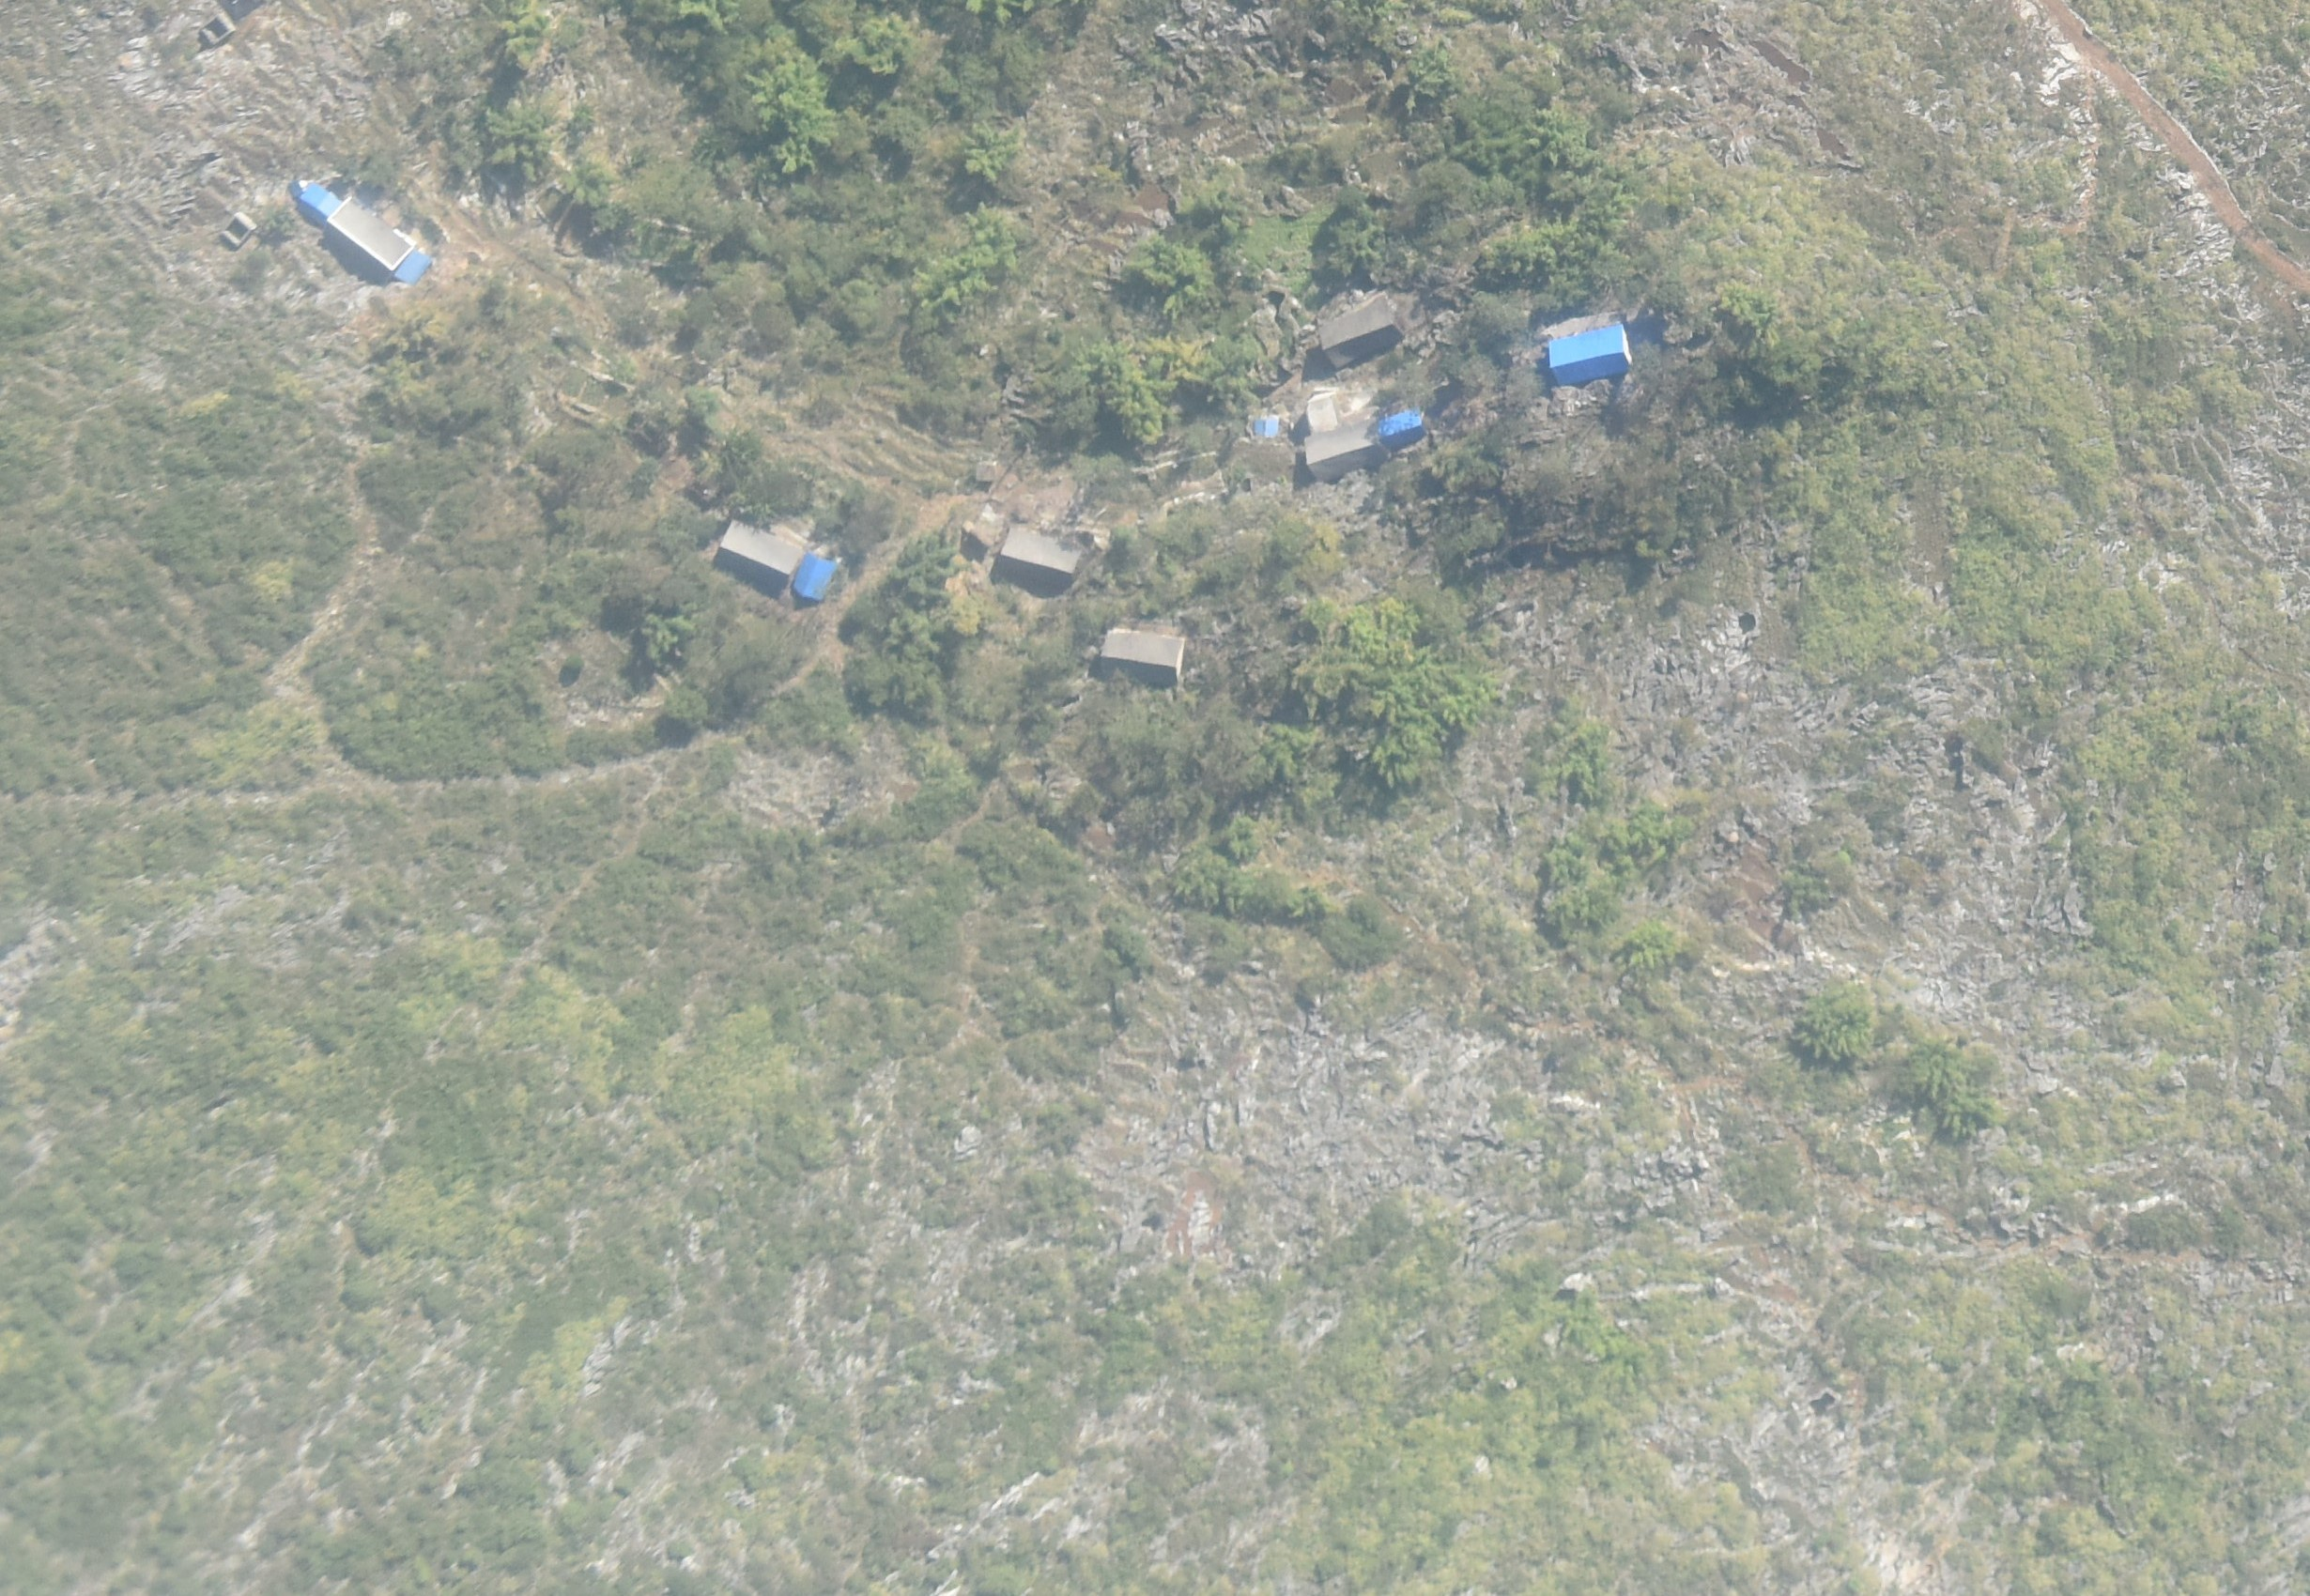building: (1305, 392, 1386, 481), (324, 194, 417, 270), (1317, 300, 1406, 370), (720, 518, 798, 591), (999, 529, 1082, 584), (1101, 630, 1185, 683), (974, 464, 995, 483)
prefabricated-house: (1551, 327, 1631, 384), (791, 545, 842, 600), (1380, 410, 1424, 447), (300, 182, 340, 220), (393, 251, 434, 286), (1252, 417, 1279, 437)
